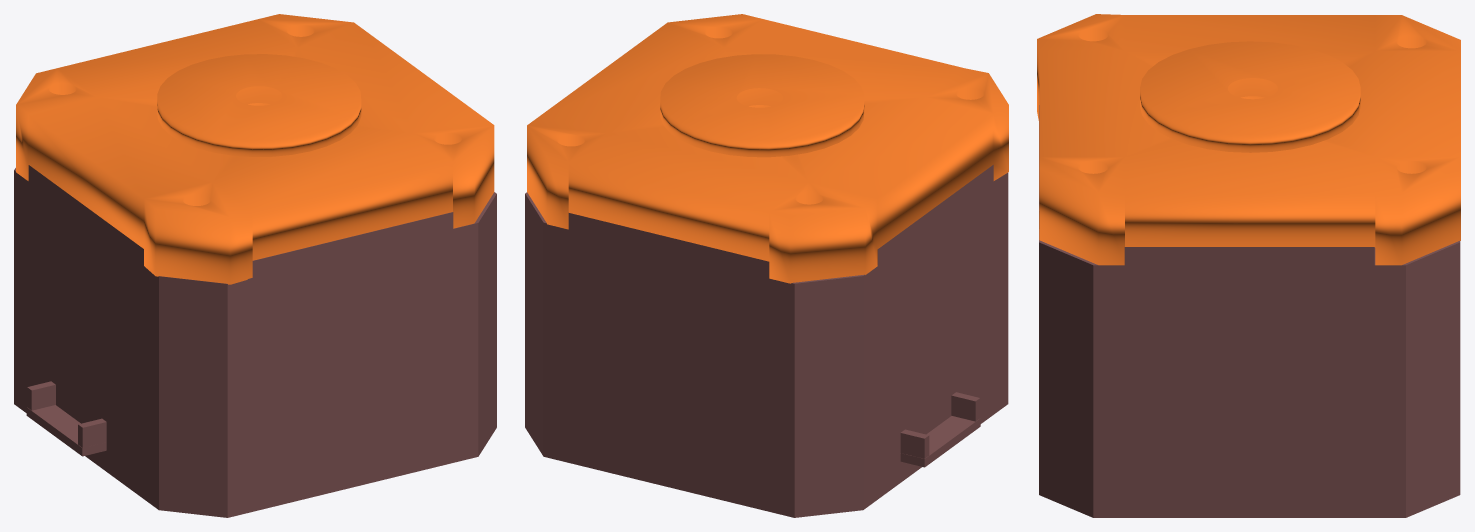
File: nemamotorbody.glb
The picture shows the model from 3 angles, left to right: view 1: azimuth 30°, elevation 25°; view 2: azimuth 150°, elevation 25°; view 3: azimuth 270°, elevation 25°; orthographic projection. The views are drawn at different scales.
Parts seen in each view (by area): view 1: middle part, Top part; view 2: middle part, Top part; view 3: middle part, Top part.
Part boxes in pixels (<box>): middle part: <box>14,165,496,517</box>; Top part: <box>16,14,494,284</box>; middle part: <box>525,165,1008,517</box>; Top part: <box>527,14,1008,283</box>; middle part: <box>1039,105,1460,517</box>; Top part: <box>1037,14,1460,265</box>.
Bounding box in the file's own units: 4.5 × 3.77 × 4.22.
Materials: 1 (1 with a texture image).
